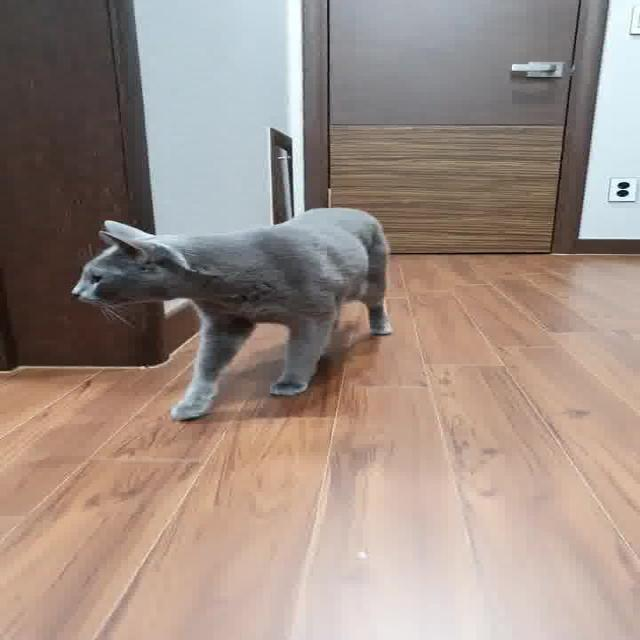cat: (44, 198, 461, 430)
